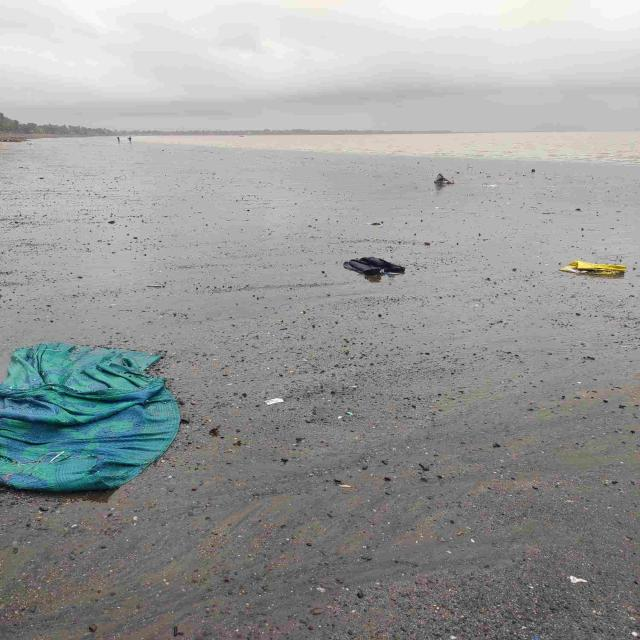vai_vun: (0, 343, 179, 492), (343, 256, 405, 274), (561, 260, 628, 275)
